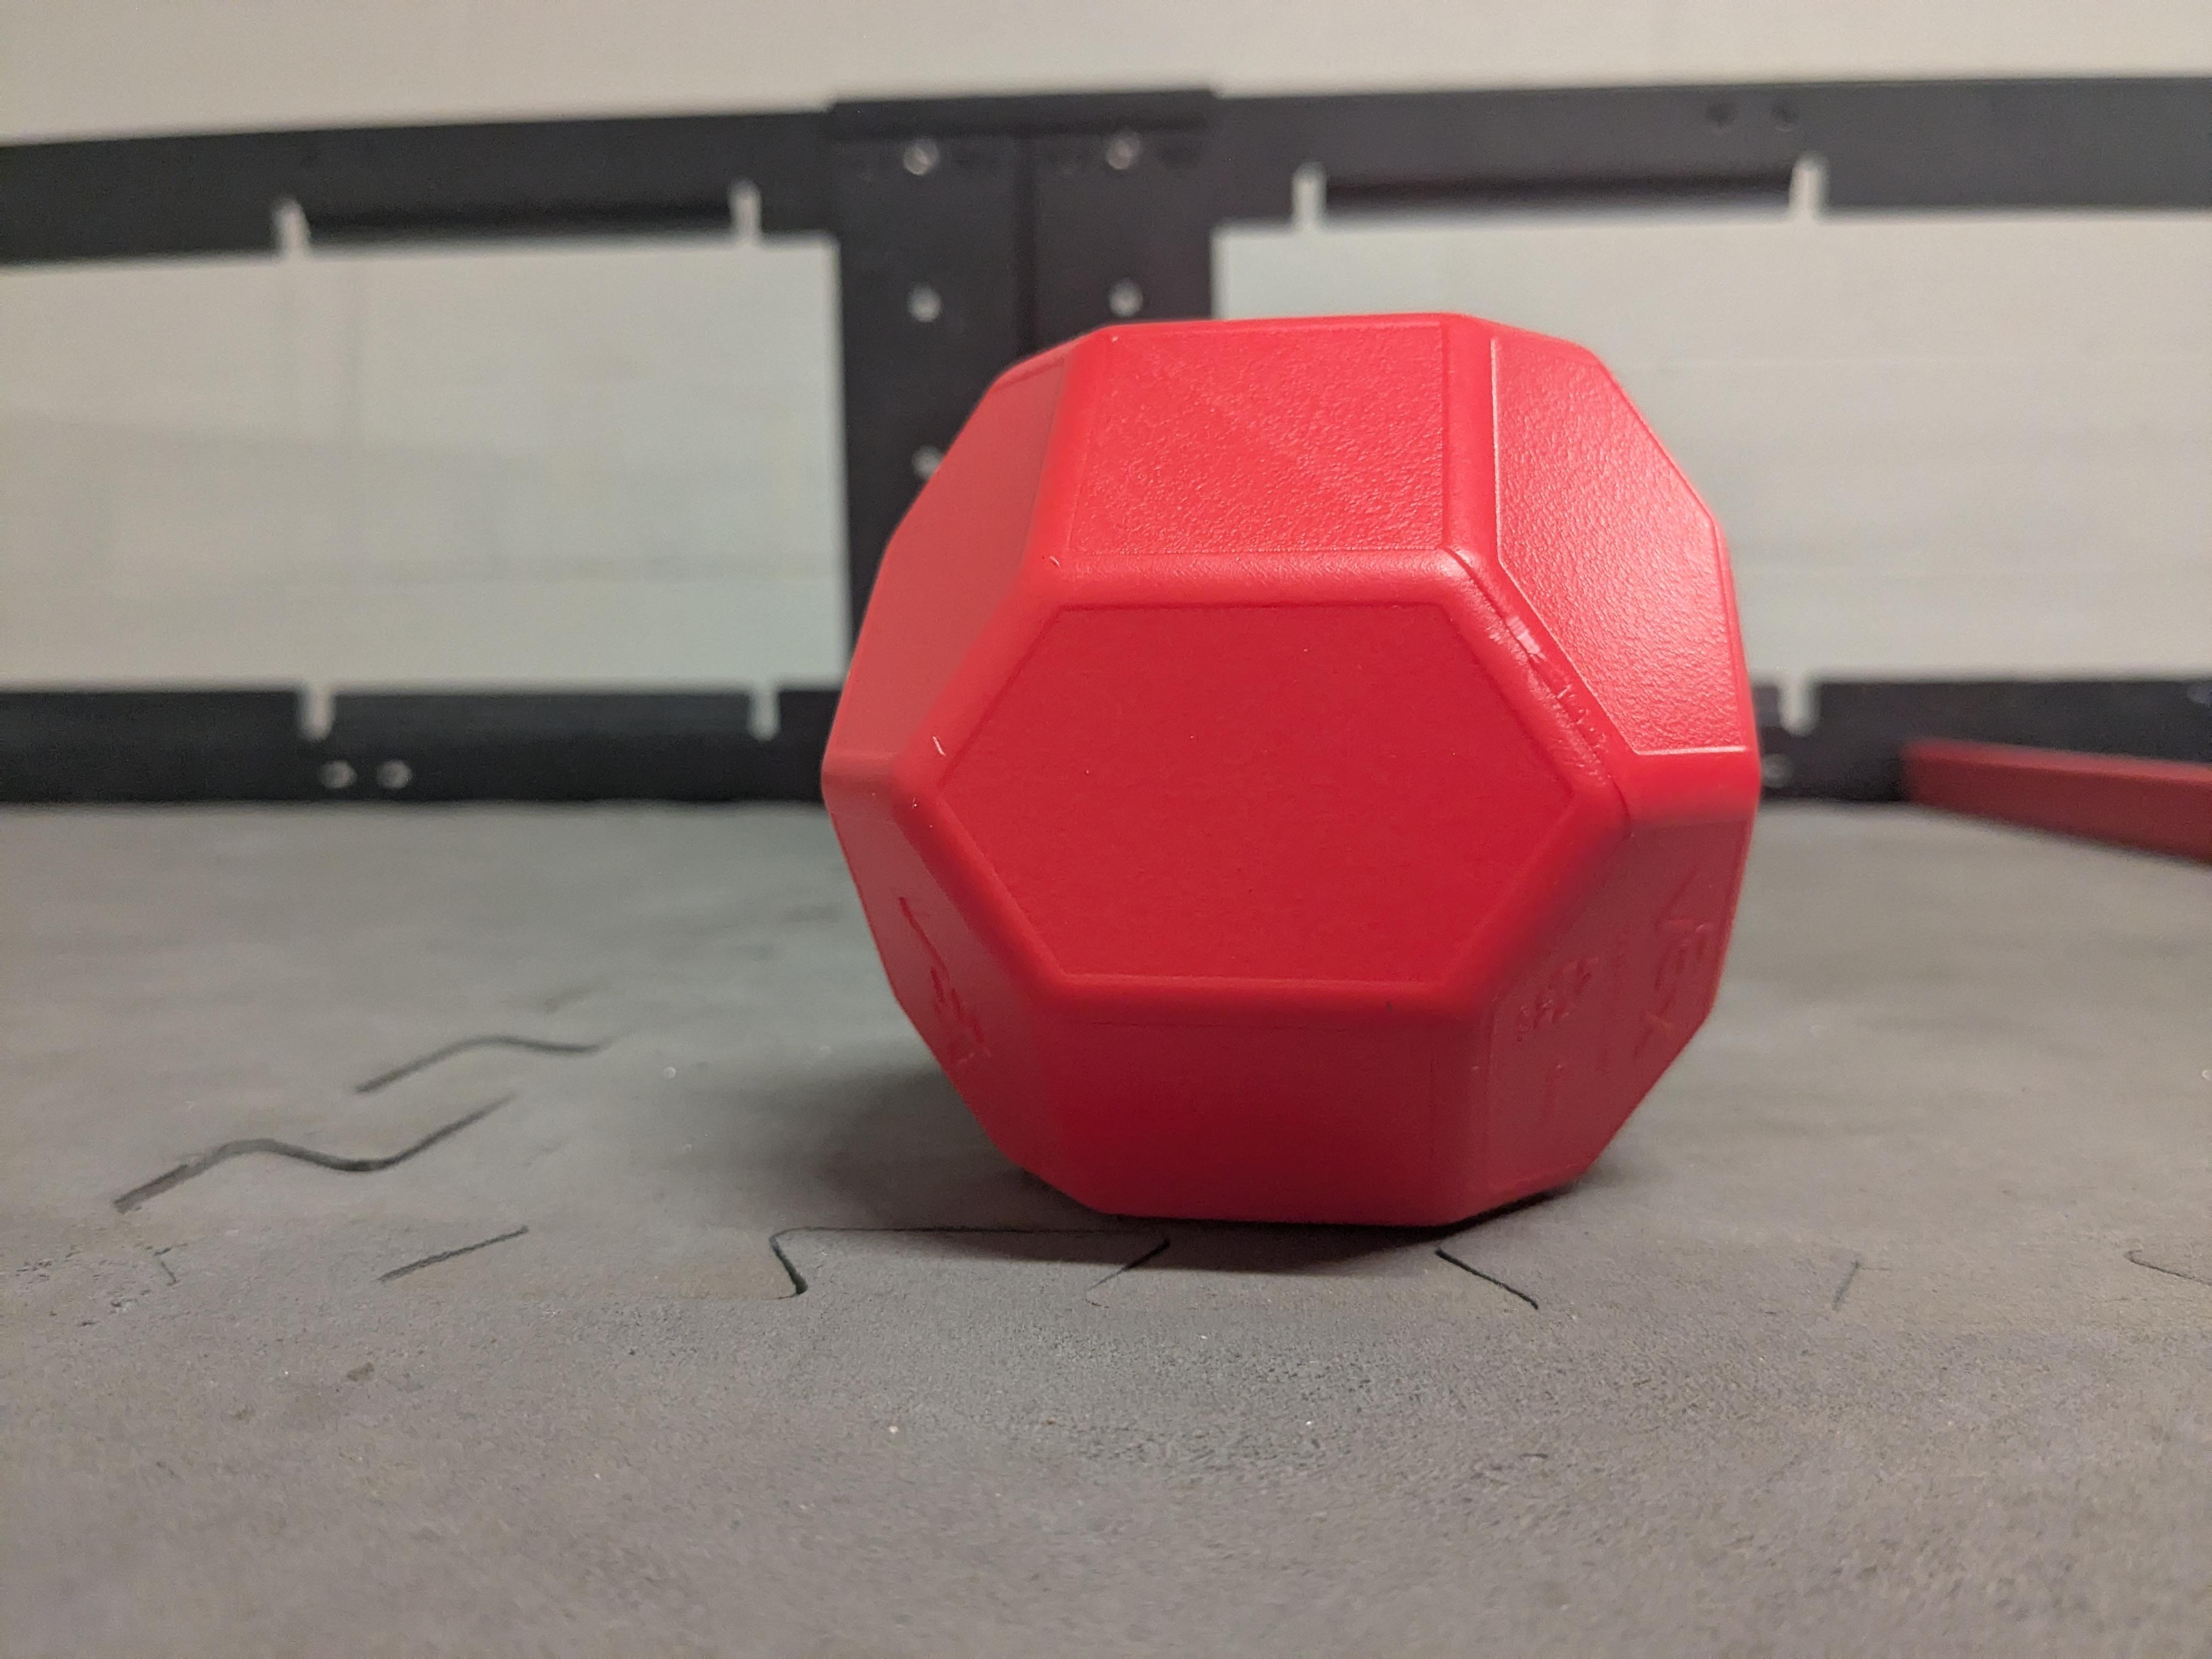Vex-Pieces-RED: (824, 315, 1759, 1223)
